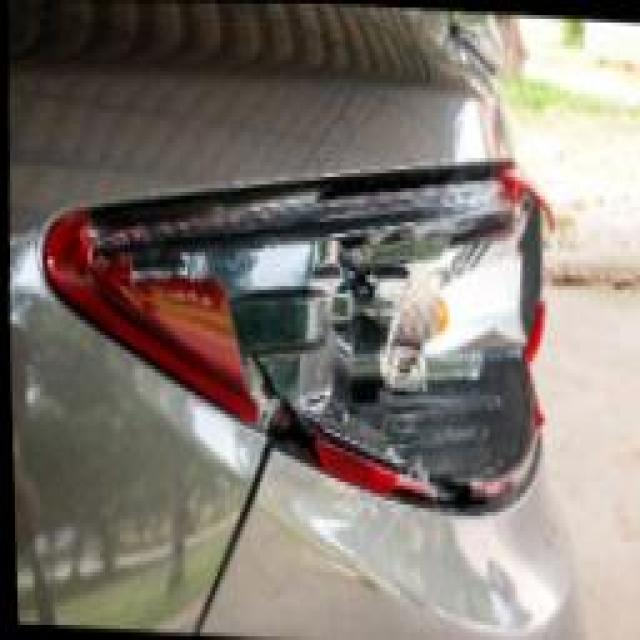Bumper: (345, 493, 562, 640)
Light: (100, 154, 540, 482)
